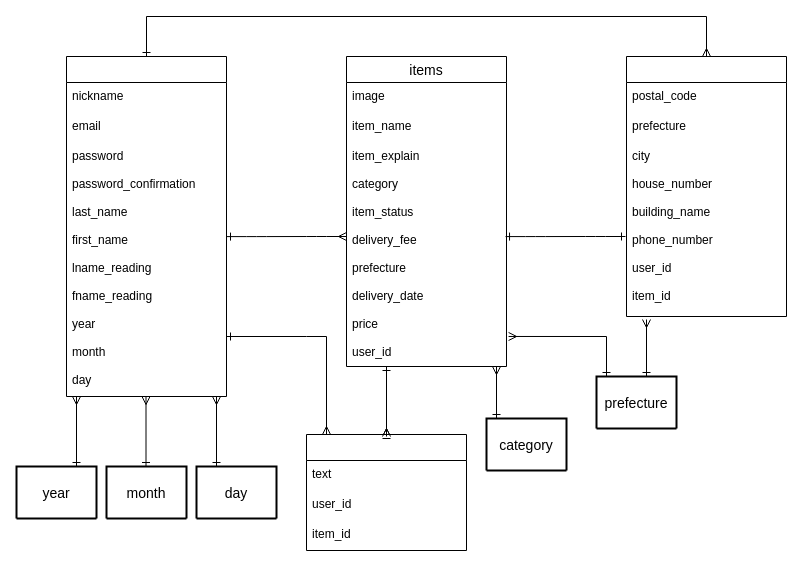
Some shapes in this 803 by 567 pixel diagram are drawn without their labels. The box of each missing label's shape, as (x1, y1, x2, y2) in pixels:
comments: (306, 434, 466, 550)
delivery_info: (626, 56, 786, 316)
users: (66, 56, 226, 396)
